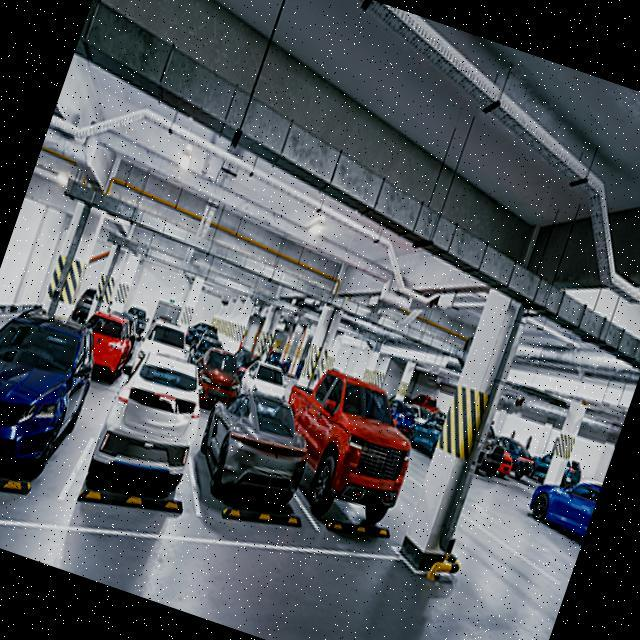Car: (60, 332, 248, 560), (254, 357, 441, 577), (171, 362, 336, 550), (0, 285, 123, 526)
